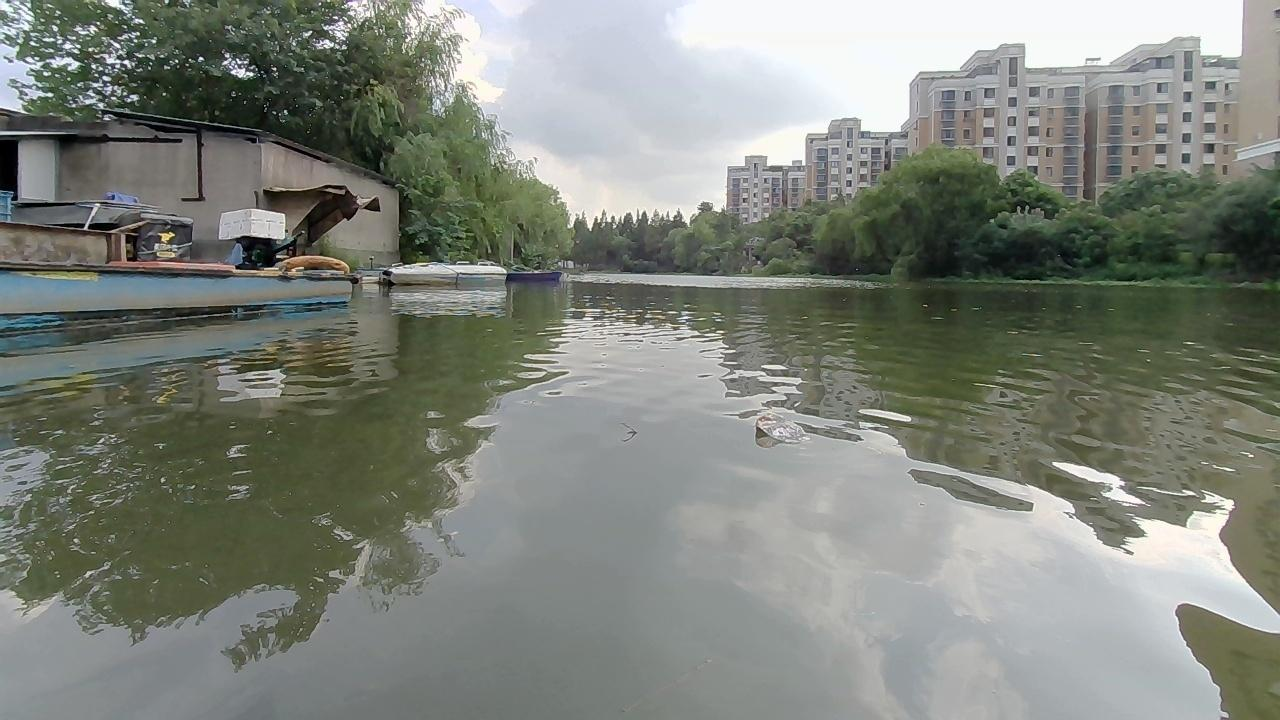bottle: (748, 410, 814, 448)
